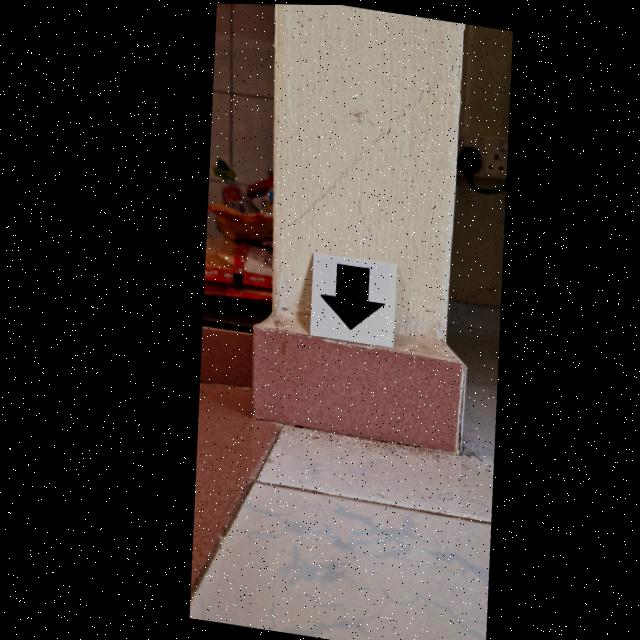DOWN: (315, 263, 377, 329)
